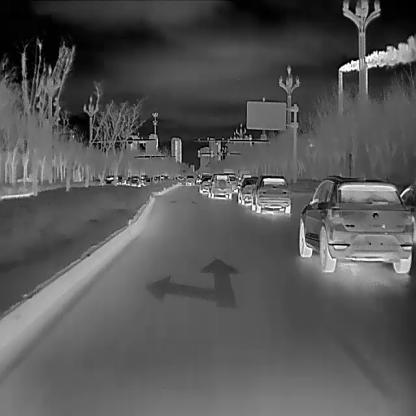car: (298, 173, 413, 274), (250, 174, 290, 213), (236, 174, 261, 205), (208, 171, 232, 199), (223, 171, 237, 193), (197, 176, 211, 194), (127, 175, 142, 187), (101, 173, 115, 185), (184, 174, 195, 185)
